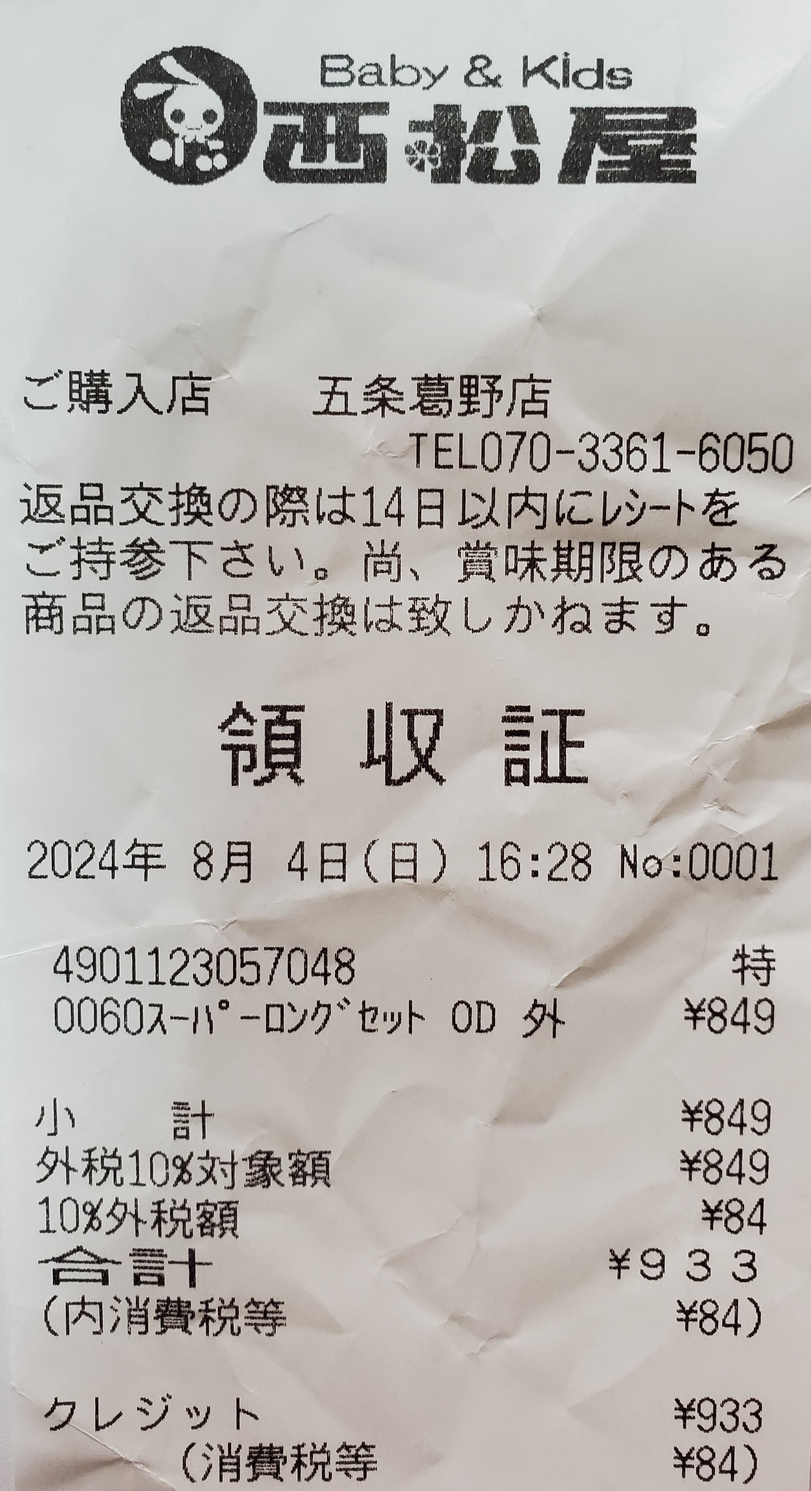Date: (21, 821, 363, 896)
Shopname: (264, 90, 718, 213)
Telnum: (477, 420, 799, 483)
Totalpay: (27, 1242, 790, 1292)
